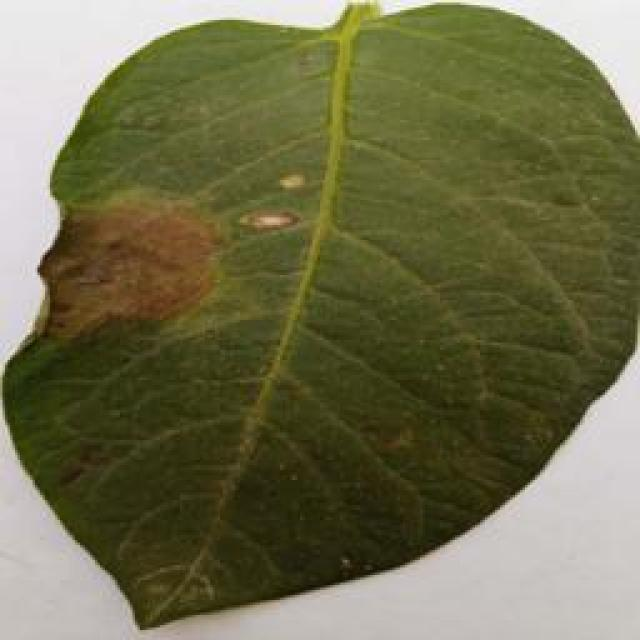Potato_Late_Blight: (3, 12, 630, 628)
